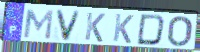D: (135, 13, 167, 47)
K: (111, 12, 135, 45), (83, 11, 107, 43)
M: (21, 8, 55, 41)
O: (166, 15, 194, 48)
V: (54, 8, 83, 43)
